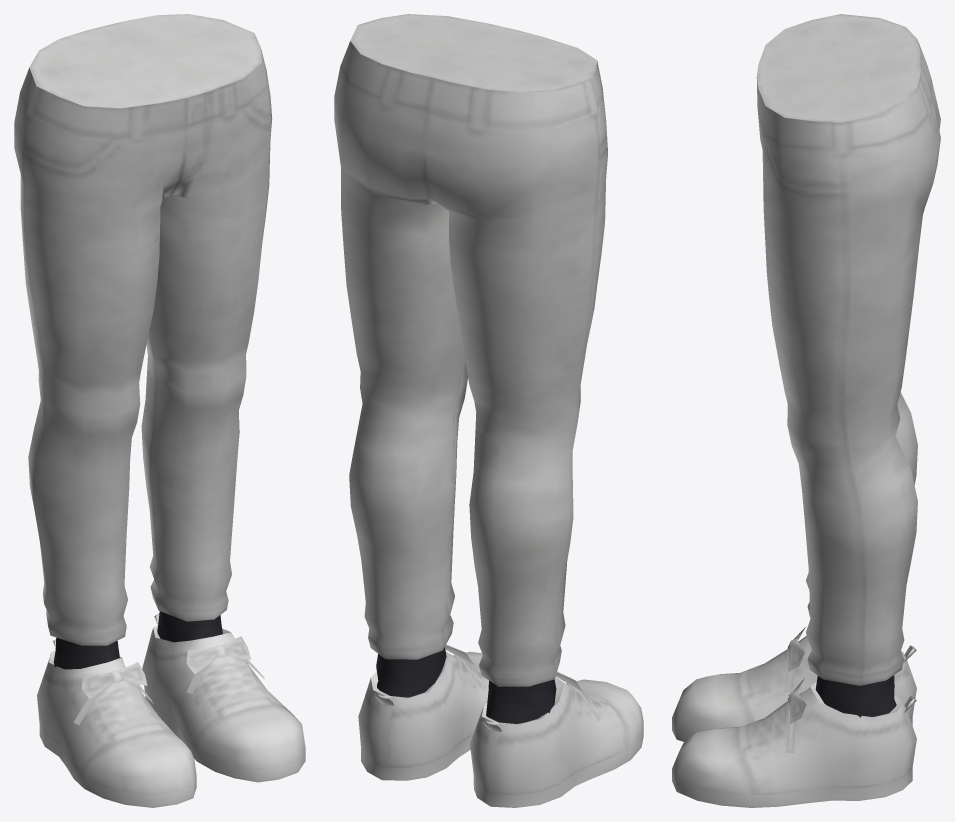
Rendered from tr0760_00_lwb00.gltf.
3 views of the same model, side by side, from view 1: azimuth 30°, elevation 25°; view 2: azimuth 150°, elevation 25°; view 3: azimuth 270°, elevation 25° (orthographic). The views are drawn at different scales.
Visible parts, largest first — view 1: lwb00_lowerbody_mesh_shape:lowerbody00, lwb00_shoes_mesh_shape:lowerbody00; view 2: lwb00_lowerbody_mesh_shape:lowerbody00, lwb00_shoes_mesh_shape:lowerbody00; view 3: lwb00_lowerbody_mesh_shape:lowerbody00, lwb00_shoes_mesh_shape:lowerbody00.
Part boxes in pixels (<box>): lwb00_lowerbody_mesh_shape:lowerbody00: <box>14,14,272,669</box>; lwb00_shoes_mesh_shape:lowerbody00: <box>37,614,305,807</box>; lwb00_lowerbody_mesh_shape:lowerbody00: <box>334,14,607,723</box>; lwb00_shoes_mesh_shape:lowerbody00: <box>358,644,643,807</box>; lwb00_lowerbody_mesh_shape:lowerbody00: <box>756,14,940,717</box>; lwb00_shoes_mesh_shape:lowerbody00: <box>672,627,916,807</box>.
Size of what is drawn, in the model's own units: 0.349 by 0.9322 by 0.3279.
Materials: 1 (1 with a texture image).
